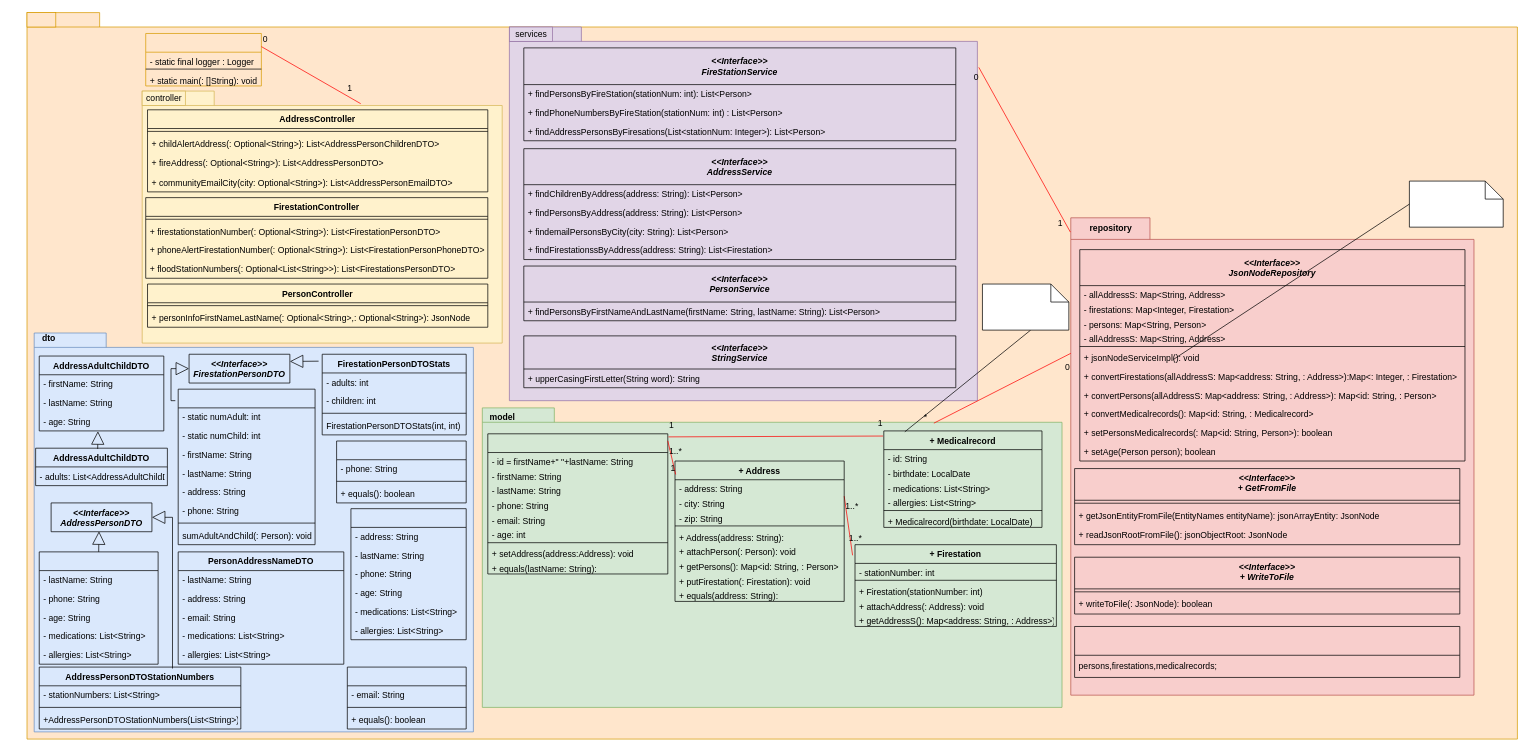
Some shapes in this 1530 by 752 pixel diagram are drawn without their labels. The box of each missing label's shape, as (x1, y1, x2, y2) in pixels:
+ Person: (487, 433, 668, 574)
+ SpringApp: (145, 33, 261, 86)
<<enumeration>> + EntityNames: (1074, 626, 1460, 677)
@PostConstruct: (1409, 180, 1503, 227)
AddressPersonDTOPerson: (39, 551, 158, 664)
AddressPersonEmailDTO: (347, 666, 466, 729)
alerts: (26, 12, 56, 27)
FirestationPersonDTOPerson: (177, 388, 315, 545)
FirestationPersonPhoneDTO: (336, 440, 466, 503)
FirestationsPersonDTO: (350, 508, 466, 640)
Map<id: String, : MedicalRecord>: (982, 283, 1069, 330)
